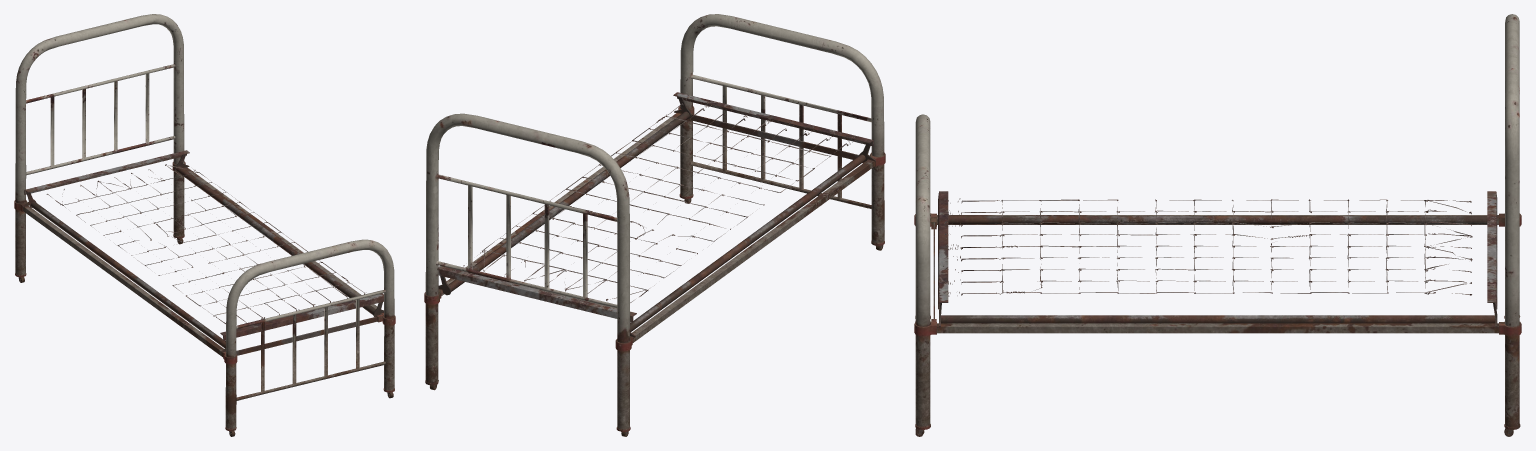
The model's file is bed.glb.
3 renders of one model, left to right at view 1: azimuth 30°, elevation 25°; view 2: azimuth 150°, elevation 25°; view 3: azimuth 270°, elevation 25°, orthographic. The views are drawn at different scales.
Parts seen in each view (by area): view 1: old_bed_frame; view 2: old_bed_frame; view 3: old_bed_frame.
Boxes of the visible parts, <box> form: old_bed_frame: <box>14,14,395,436</box>; old_bed_frame: <box>424,14,885,436</box>; old_bed_frame: <box>914,14,1521,436</box>.
Bounding box in the file's own units: 0.9047 × 1.2 × 2.
Materials: 1 (1 with a texture image).
